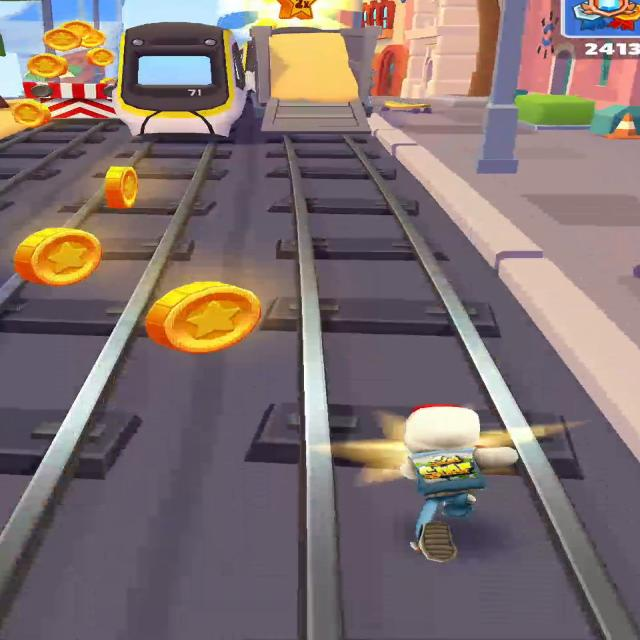climber: (250, 30, 374, 132)
roll blocker: (23, 81, 114, 119)
train: (112, 20, 255, 136)
